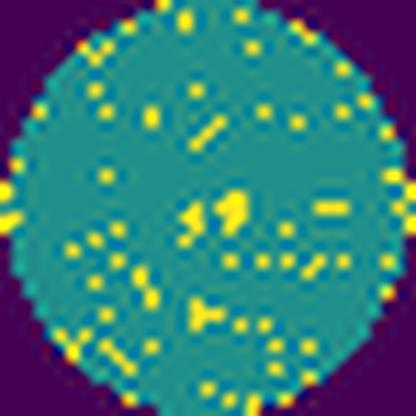Center: (175, 186, 255, 254)
